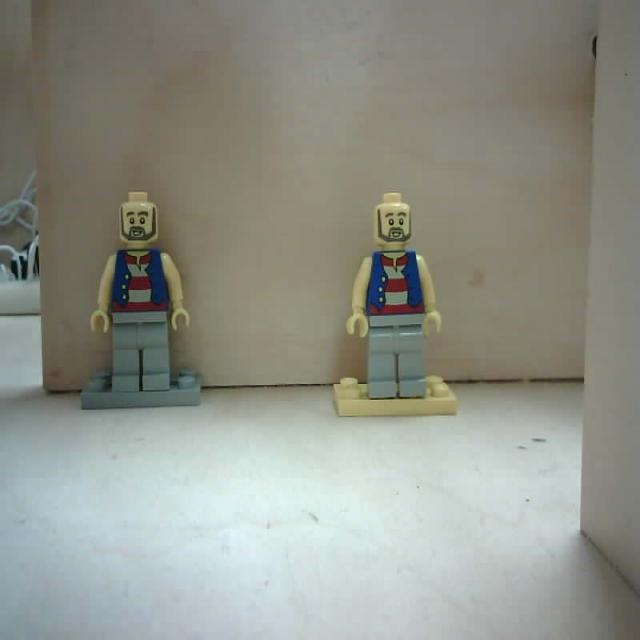Lego-People: (333, 191, 458, 418), (80, 192, 203, 408)
